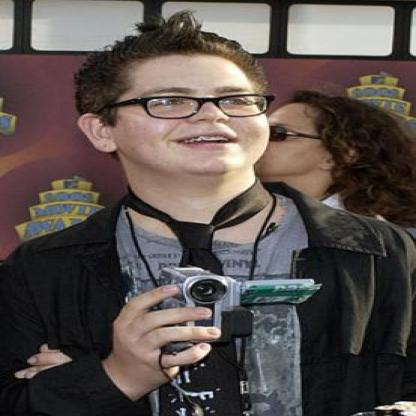face: (106, 38, 274, 180), (252, 96, 346, 179)
